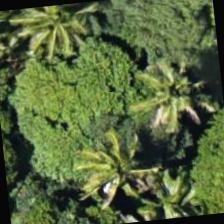Kelapa_Sawit: (124, 41, 224, 140), (64, 122, 163, 222), (11, 0, 106, 68)
